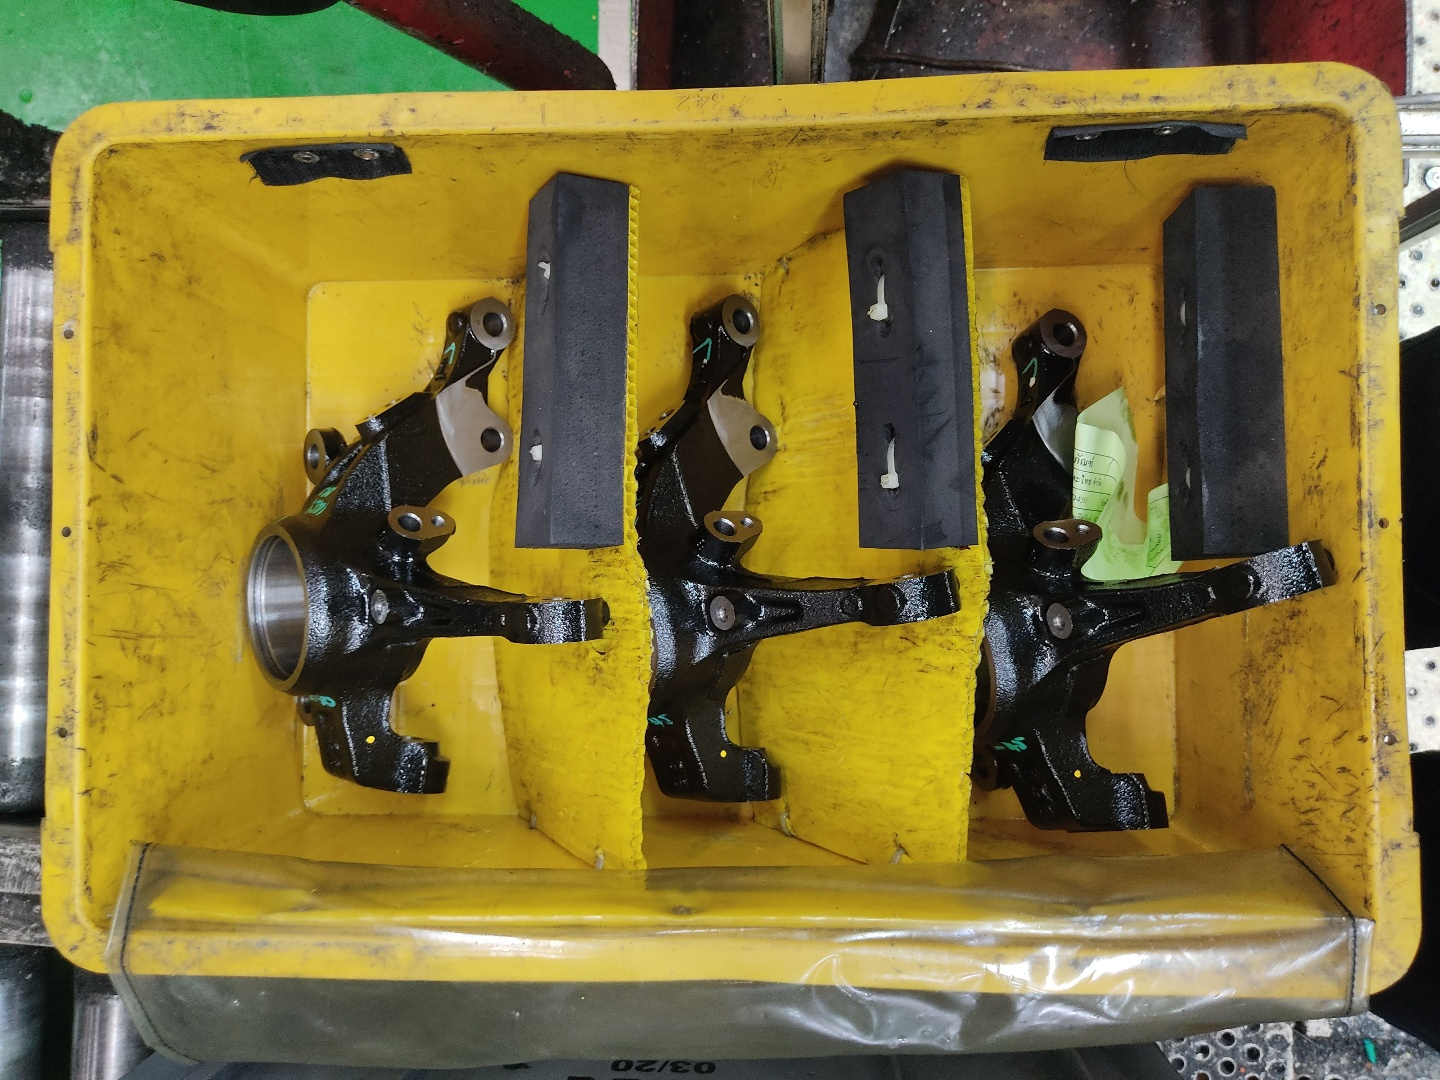abs-lh: (971, 302, 1344, 842), (236, 289, 619, 802), (625, 284, 969, 813)
